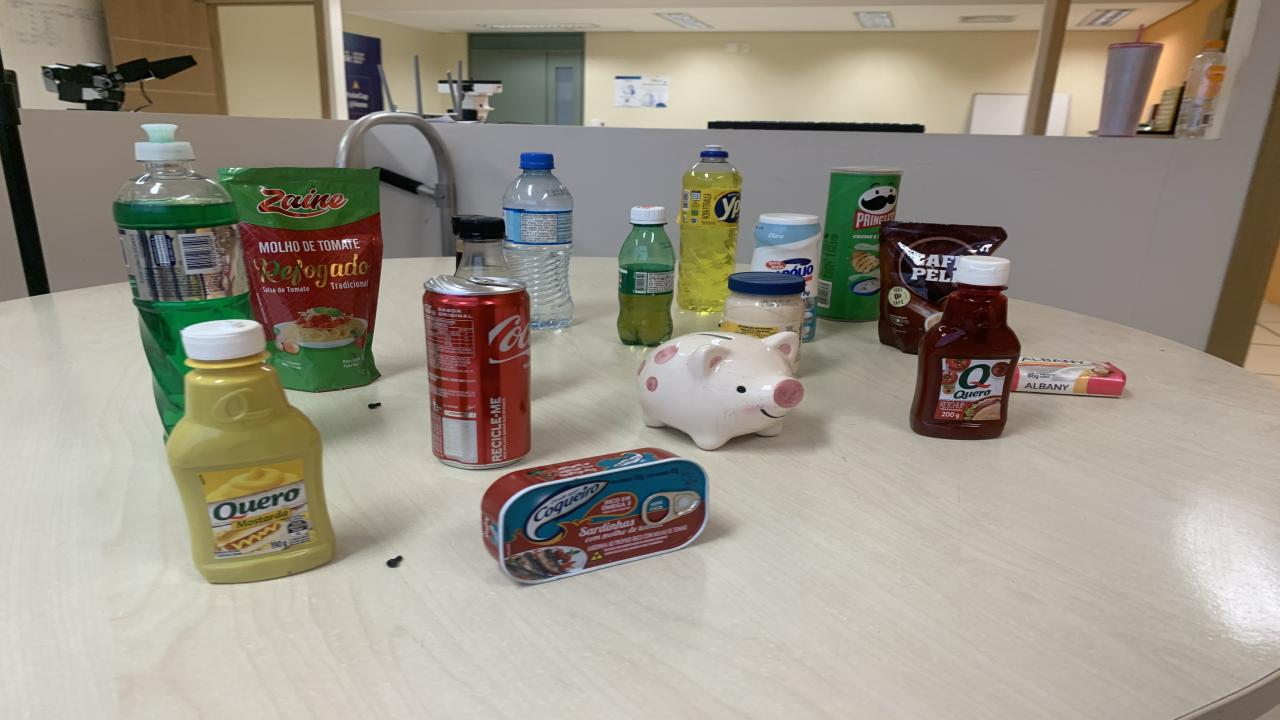Cleaner-Cleanup_Items: (752, 214, 820, 341)
Coffee-Pantry_Items: (878, 221, 1008, 352)
Coke-Drinks: (422, 276, 530, 469)
Detergent-Cleanup_Items: (112, 124, 252, 437), (678, 144, 742, 313)
Guarana-Drinks: (618, 206, 675, 347)
Ketchup-Pantry_Items: (910, 255, 1020, 439)
Mayonnaise-Pantry_Items: (720, 272, 805, 338)
Mustard-Pantry_Items: (168, 319, 335, 583)
Pig_Safe-Miscellaneous: (638, 332, 802, 450)
Pringles-Snacks: (818, 167, 902, 321)
Soap-Cleanup_Items: (1010, 356, 1125, 398)
Soda-Drinks: (455, 240, 512, 278)
Tomato_Sauce-Pantry_Items: (218, 167, 382, 392)
Tuna_Can-Pantry_Items: (482, 448, 710, 585)
Water_Bottle-Drinks: (502, 152, 572, 328)
